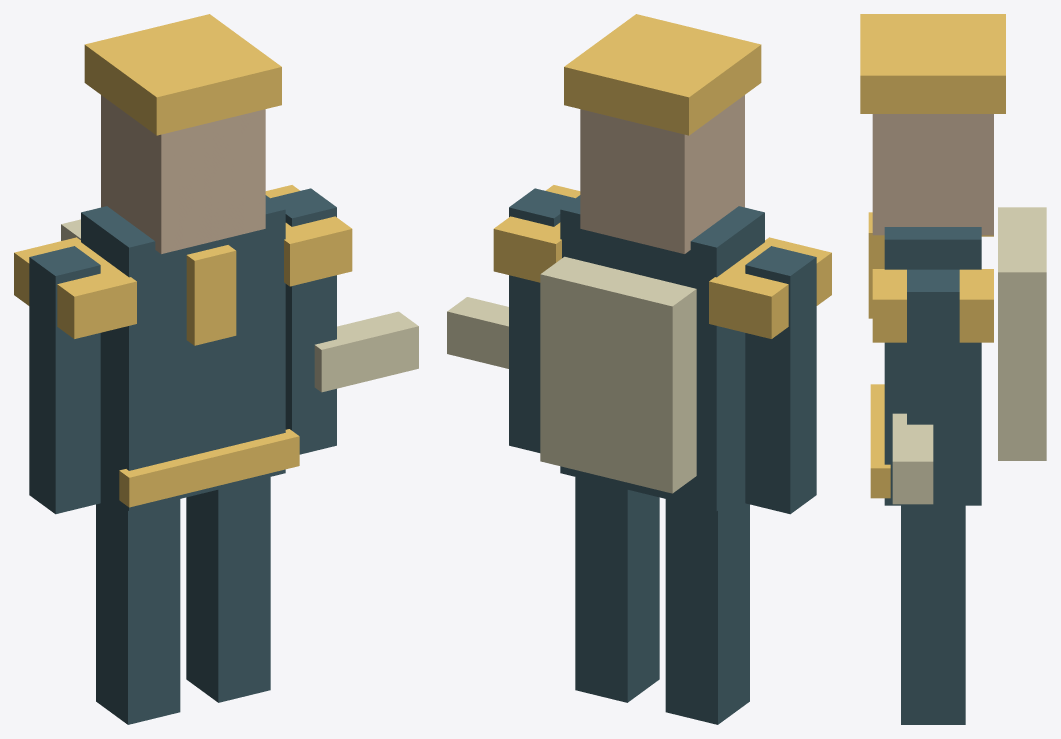
The model's file is 18_tovin_deepwell_archivist_at_listening.glb.
The picture shows the model from 3 angles, left to right: view 1: azimuth 30°, elevation 25°; view 2: azimuth 150°, elevation 25°; view 3: azimuth 270°, elevation 25°; orthographic projection.
Visible parts, largest first — view 1: Tovin Deepwell, Archivist at Listening; view 2: Tovin Deepwell, Archivist at Listening; view 3: Tovin Deepwell, Archivist at Listening.
Part boxes in pixels (x1=…): Tovin Deepwell, Archivist at Listening: x1=14, y1=14, x2=418, y2=724; Tovin Deepwell, Archivist at Listening: x1=447, y1=14, x2=831, y2=724; Tovin Deepwell, Archivist at Listening: x1=860, y1=14, x2=1046, y2=724.
Bounding box in the file's own units: 0.947 × 1.63 × 0.425.
